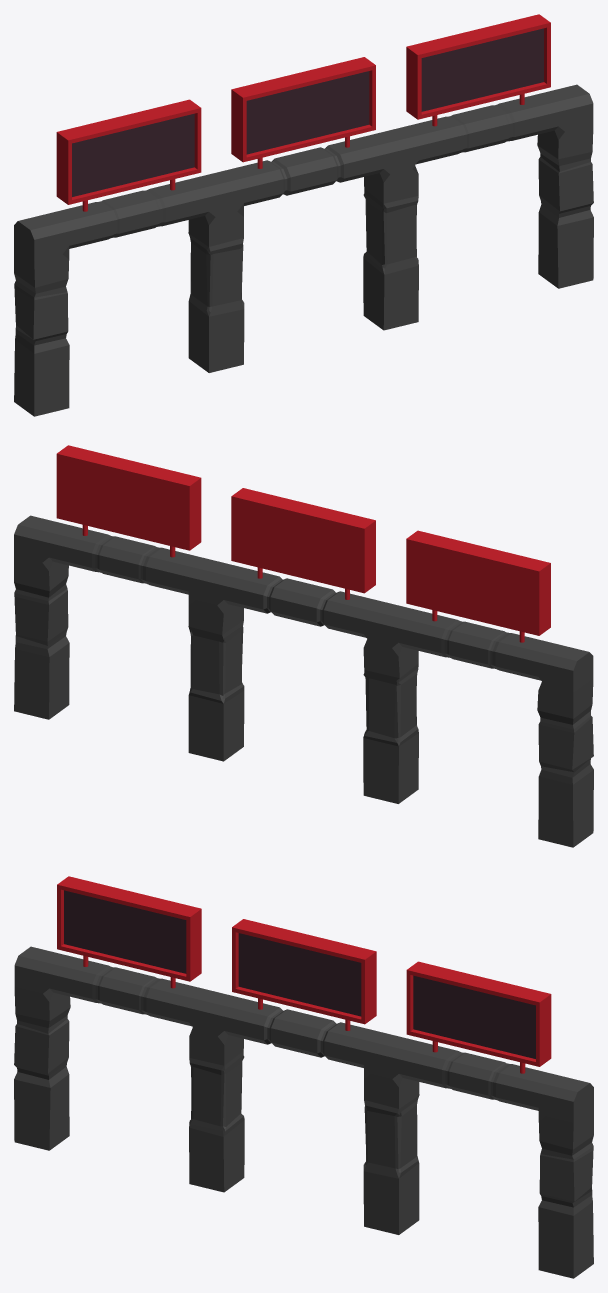
The model's file is arche_triple.glb.
3 views of the same model, one above another, from view 1: azimuth 30°, elevation 25°; view 2: azimuth 150°, elevation 25°; view 3: azimuth 330°, elevation 25° (orthographic).
Visible parts, largest first — view 1: Cube, Cube.003, Cube.002, Cube.001; view 2: Cube, Cube.002, Cube.003, Cube.001; view 3: Cube, Cube.002, Cube.003, Cube.001.
Boxes of the visible parts, x1,y1,x2,y2 form: Cube: [14, 84, 593, 416]; Cube.003: [56, 99, 201, 211]; Cube.002: [406, 14, 550, 126]; Cube.001: [231, 57, 375, 168]; Cube: [14, 515, 593, 847]; Cube.002: [56, 445, 201, 557]; Cube.003: [406, 530, 550, 642]; Cube.001: [231, 488, 375, 599]; Cube: [14, 946, 593, 1278]; Cube.002: [406, 961, 551, 1073]; Cube.003: [57, 876, 201, 988]; Cube.001: [232, 919, 376, 1030].
Size of the model in its own units: 6.41 by 2.88 by 0.4319.
Materials: 1 (1 with a texture image).
